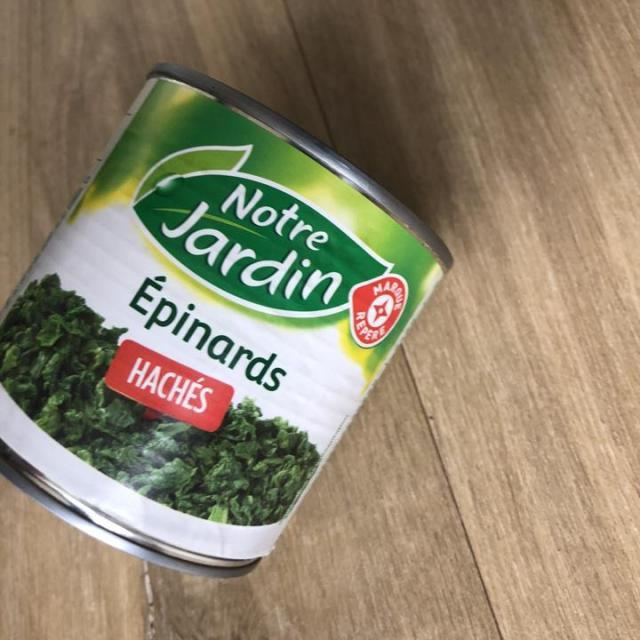recyclable: (0, 37, 466, 593)
